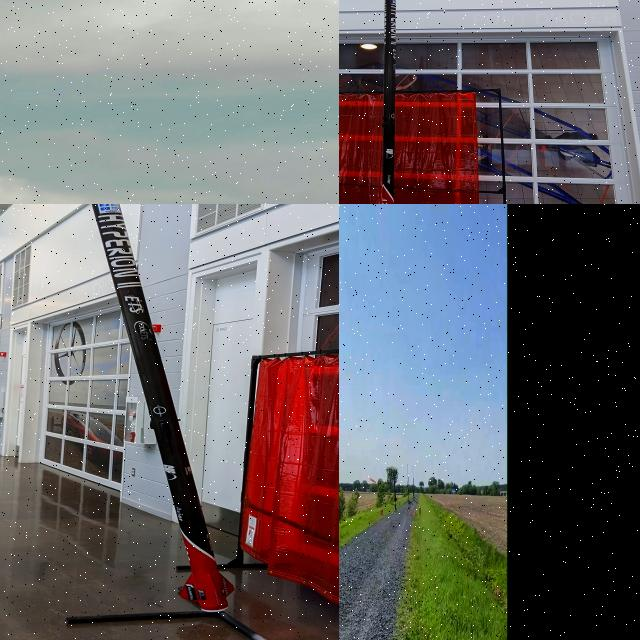Rocket: (91, 204, 235, 612), (382, 0, 396, 204), (394, 474, 396, 502)
